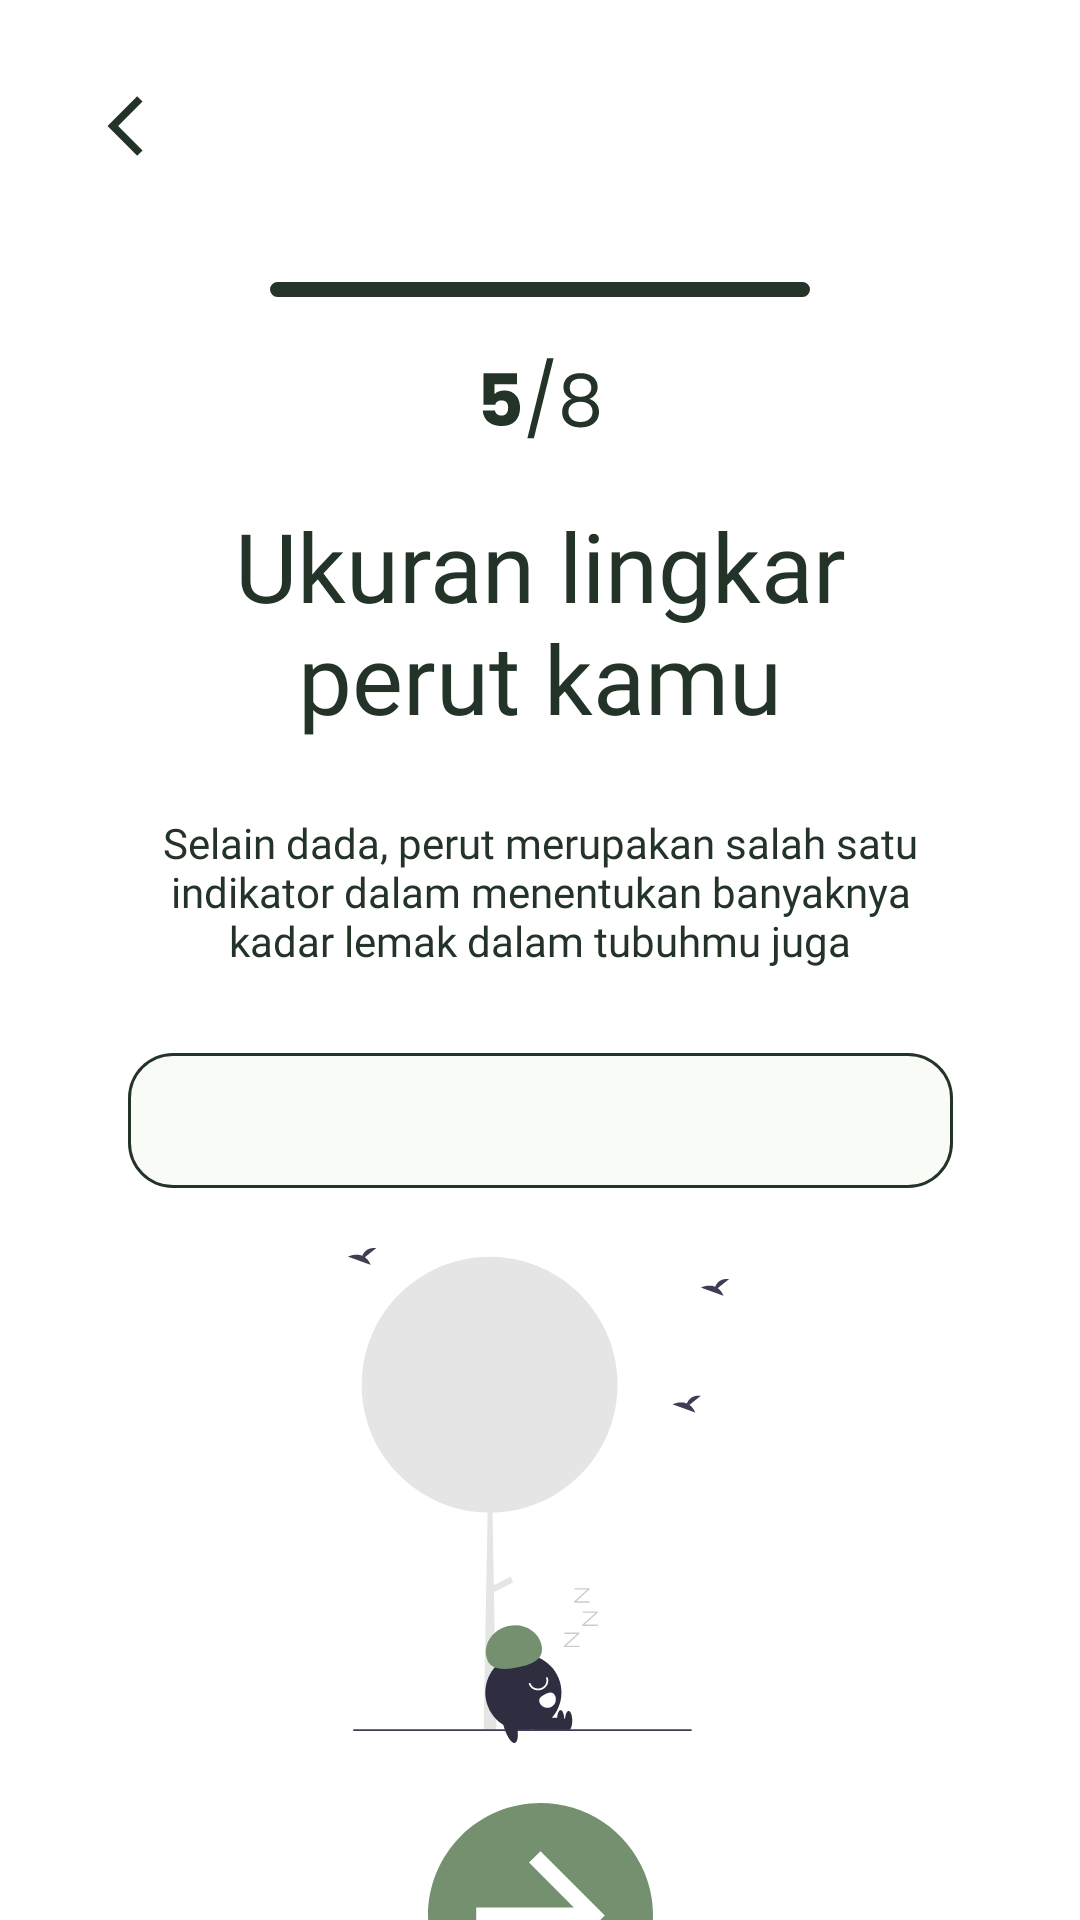

Screen size 1080×1920. Icon name, then its center in pixels as [x,y]:
back: [125,126]
